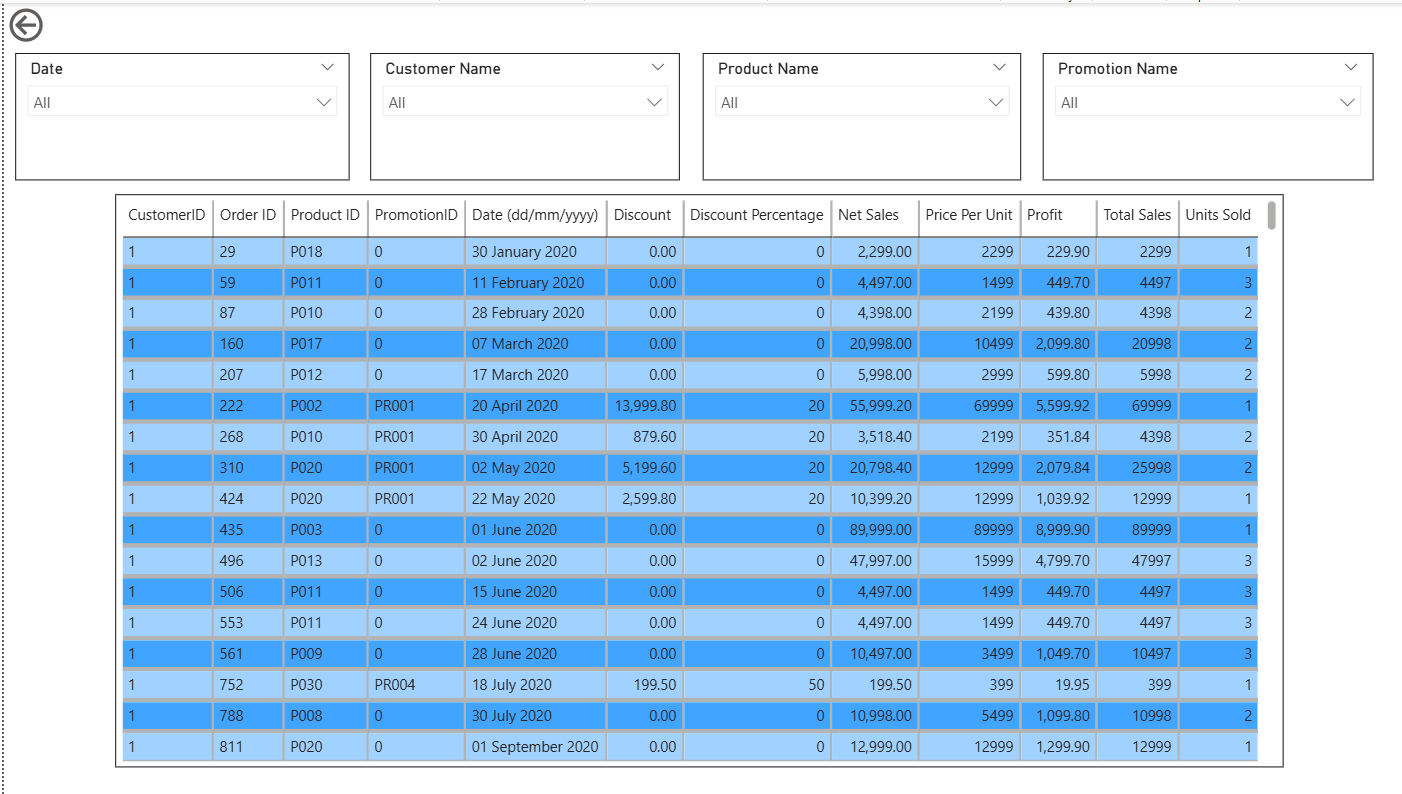

What the dashboard file says about the page in this screenshot:
{"tool":"powerbi","page":{"name":"Table Visual","canvas":[1280,720],"ordinal":4},"visuals":[{"type":"tableEx","fields":{"Values":["Fact Table.CustomerID","Fact Table.Order ID","Fact Table.Product ID","Fact Table.PromotionID","Fact Table.Date (dd/mm/yyyy)","Fact Table.Discount ","Fact Table.Discount Percentage","Fact Table.Net Sales ","Fact Table.Price Per Unit","Fact Table.Profit ","Fact Table.Total Sales  ","Fact Table.Units Sold"]},"box":[100.2,172.9,1056.6,518.7],"z":0},{"type":"slicer","fields":{"Values":["Date Table 1.Date"]},"box":[10.5,45.3,302.3,115.1],"z":1000},{"type":"slicer","fields":{"Values":["Dim Customers.Customer Name"]},"box":[331.4,45.3,280.2,115.1],"z":2000},{"type":"slicer","fields":{"Values":["Dim Product.Product Name"]},"box":[632.6,45.3,288.4,115.1],"z":3000},{"type":"slicer","fields":{"Values":["Dim Promotion.Promotion Name"]},"box":[939.5,45.3,298.8,115.1],"z":4000},{"type":"actionButton","box":[0,0,100,40],"z":5000}]}

Visuals, with their boxes in screenshot pixels (x1, y1, x2, y2), scaled from the page's 1280x720 canvas onto the 1402x794 screenshot:
tableEx - Fact Table.CustomerID x Fact Table.Order ID: left=110, top=191, right=1267, bottom=763
slicer - Date Table 1.Date: left=12, top=50, right=343, bottom=177
slicer - Dim Customers.Customer Name: left=363, top=50, right=670, bottom=177
slicer - Dim Product.Product Name: left=693, top=50, right=1009, bottom=177
slicer - Dim Promotion.Promotion Name: left=1029, top=50, right=1356, bottom=177
actionButton: left=0, top=0, right=110, bottom=44
